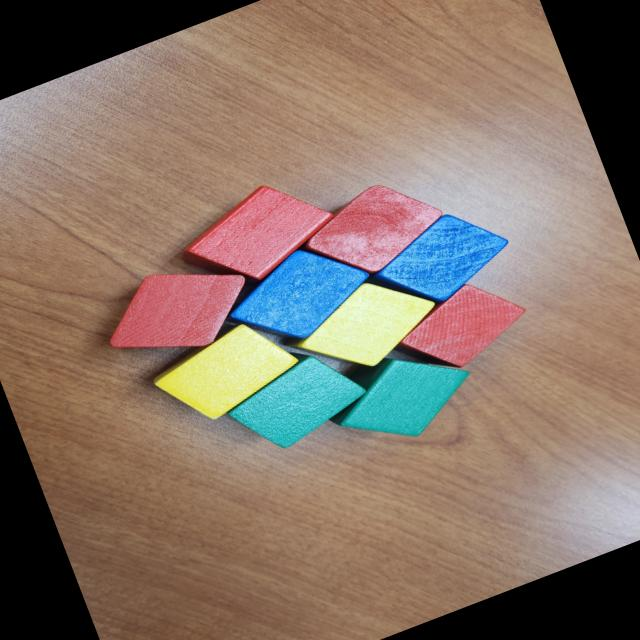blue: (215, 229, 384, 363), (356, 196, 520, 325)
green: (311, 324, 482, 464), (216, 328, 382, 466)
red: (170, 165, 346, 302), (92, 244, 263, 376), (293, 166, 453, 292), (380, 267, 539, 389)
yellow: (270, 262, 452, 396), (144, 310, 308, 438)
